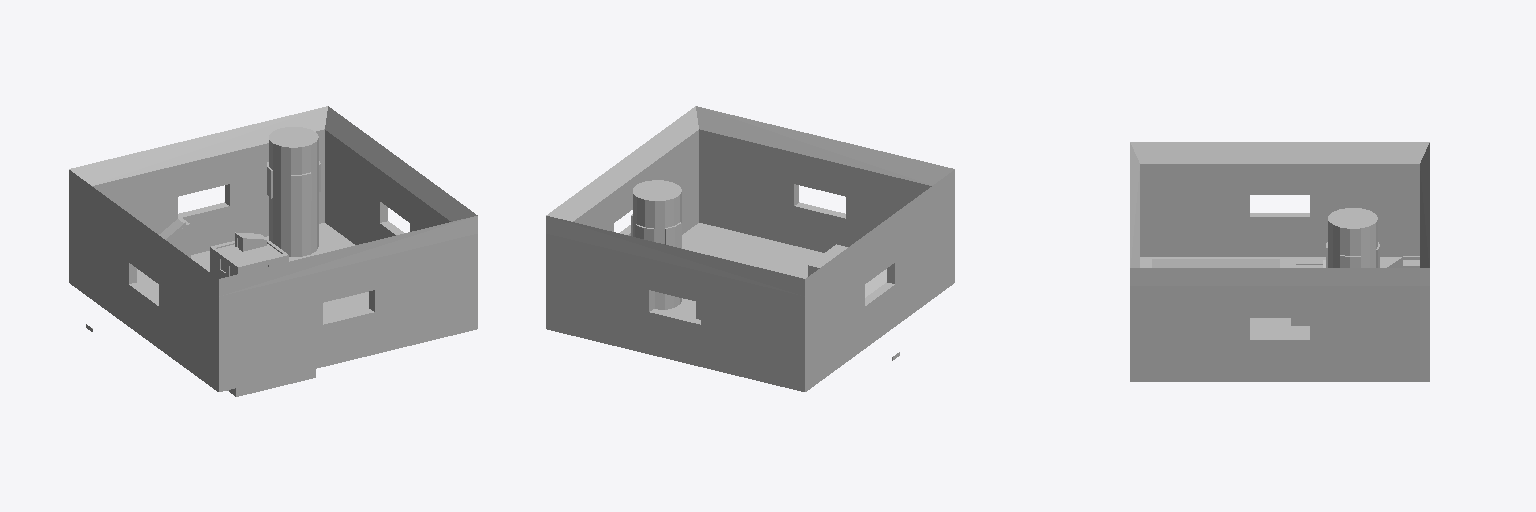
File: tileEmpty0.obj
3 views of the same model, side by side, from view 1: azimuth 30°, elevation 25°; view 2: azimuth 150°, elevation 25°; view 3: azimuth 270°, elevation 25° (orthographic).
Parts seen in each view (by area): view 1: M_Base; view 2: M_Base; view 3: M_Base.
Part boxes in pixels (bbox=[...]): M_Base: bbox=[69, 106, 477, 396]; M_Base: bbox=[546, 106, 954, 391]; M_Base: bbox=[1130, 142, 1429, 381].
Bounding box in the file's own units: 34.08 × 16.33 × 30.02.